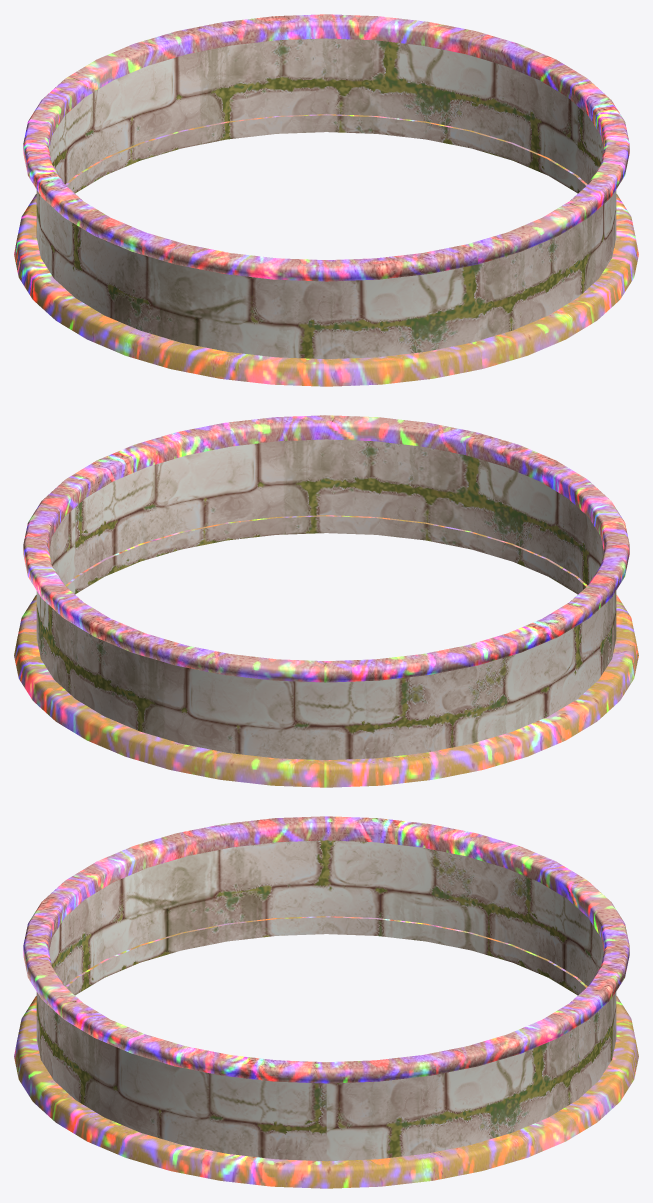
File: flower_pot_circle_SM.fbx
3 renders of one model, top to bottom at view 1: azimuth 30°, elevation 25°; view 2: azimuth 150°, elevation 25°; view 3: azimuth 270°, elevation 25°, orthographic.
Parts seen in each view (by area): view 1: flower_pot_circle_SM_LOD0; view 2: flower_pot_circle_SM_LOD0; view 3: flower_pot_circle_SM_LOD0.
Part boxes in pixels (x1,y1,x2,y2): flower_pot_circle_SM_LOD0: (14,14,638,386); flower_pot_circle_SM_LOD0: (14,415,638,787); flower_pot_circle_SM_LOD0: (14,816,638,1188).
Size of the model in its own units: 553 by 553 by 111.
3 materials, 3 textured.
